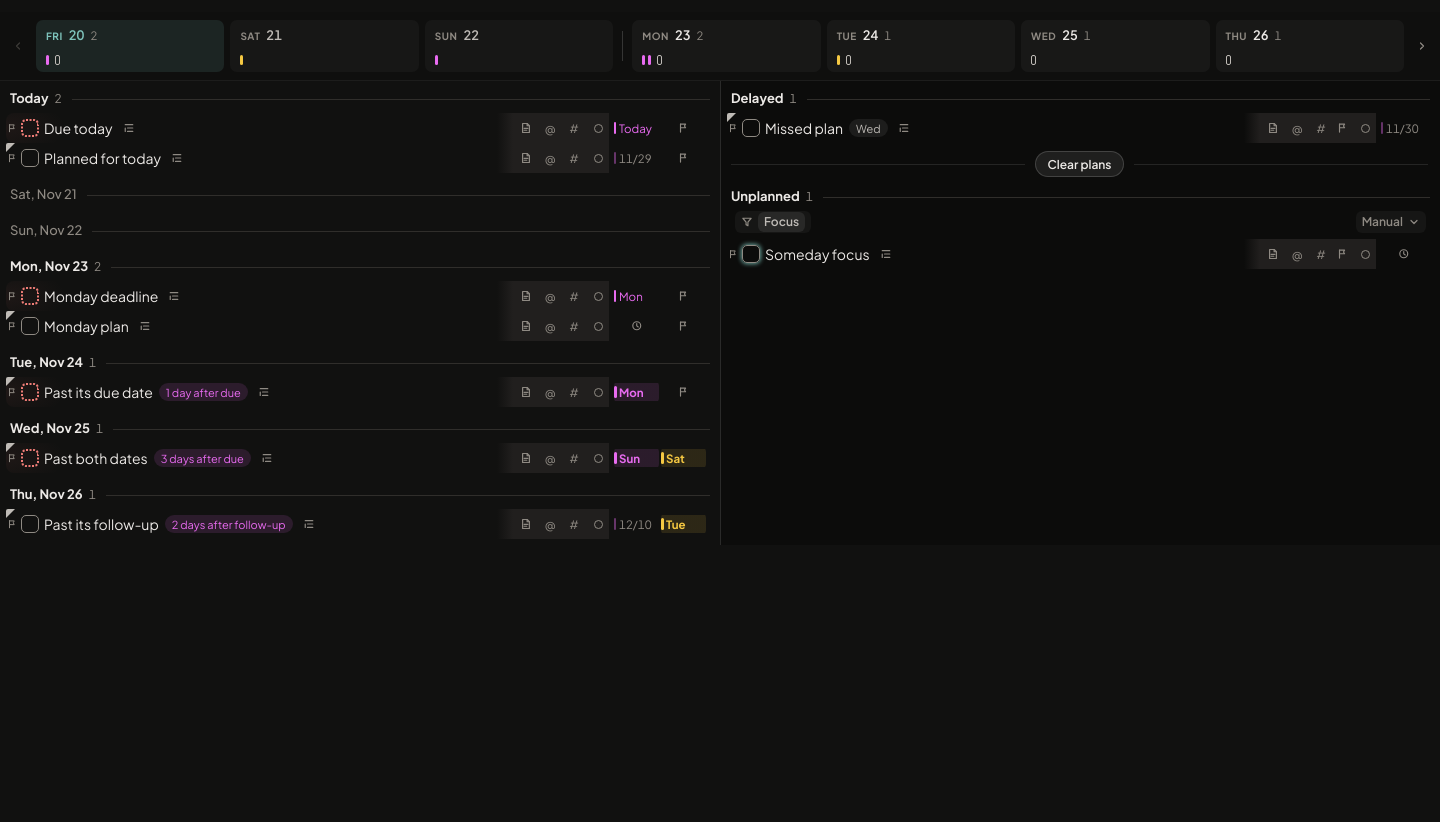
Test: the tag after the title › a conflict’s tag opens its fixes › lists Move due date to the planned day, then Plan for the due date’s day
What coordinates should you click on to do the following:
click the button "1 day after due"
I would click on:
 (203, 392)
Its box is [159, 383, 248, 401].
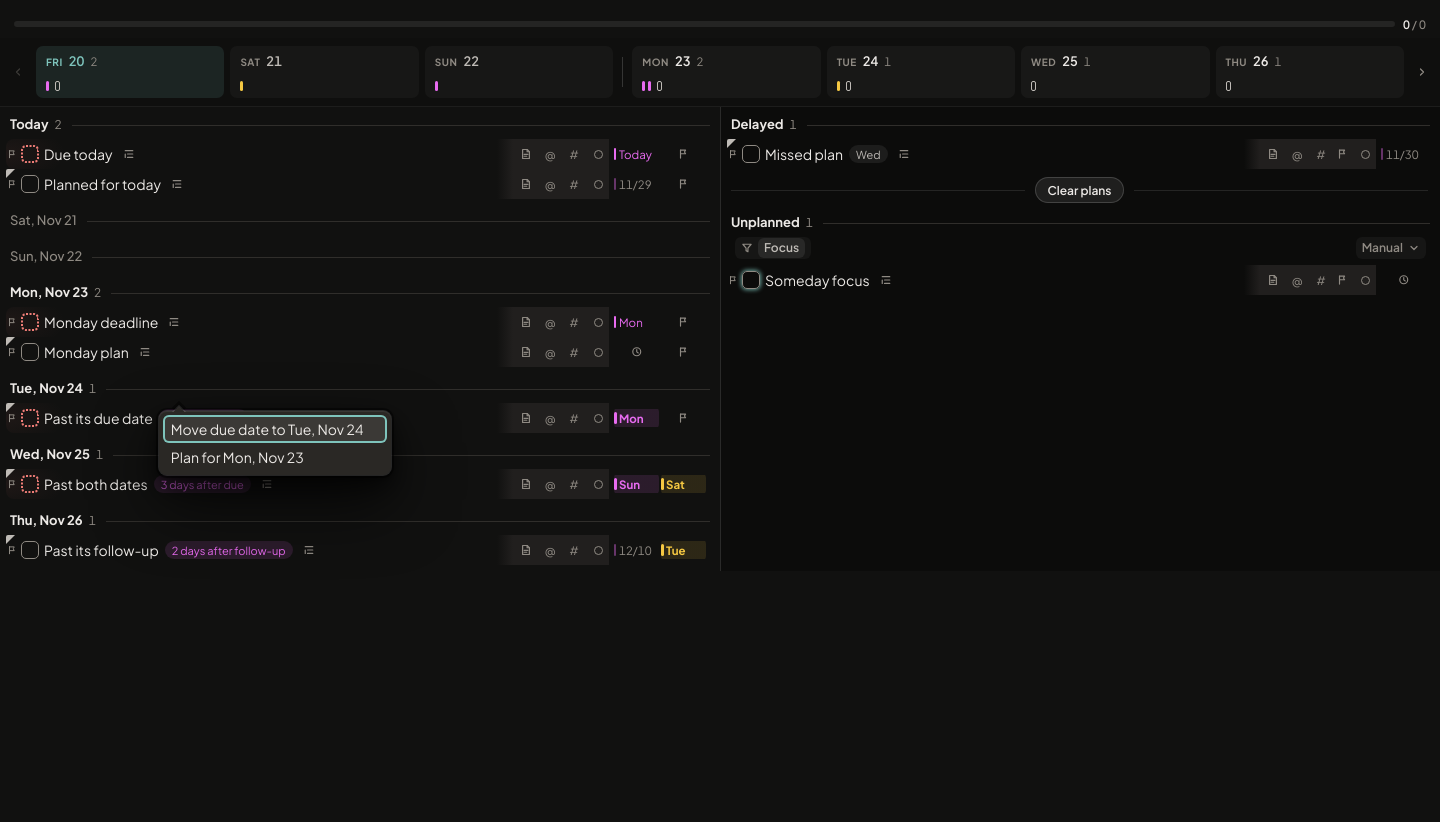
Expected: the button "1 day after due" is expanded, [159, 409, 248, 427]
